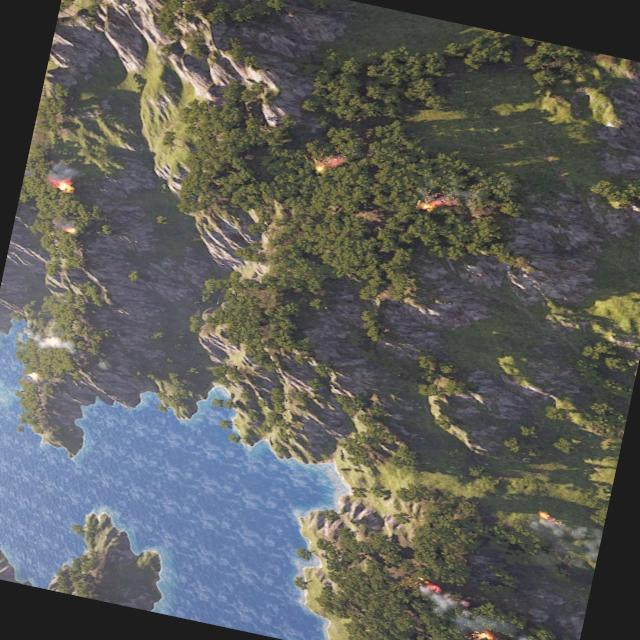fire: (419, 192, 450, 214), (314, 153, 343, 175), (470, 626, 498, 640), (535, 510, 560, 523), (418, 576, 440, 590), (56, 179, 74, 192), (28, 369, 40, 379), (66, 226, 80, 234)
smoke: (412, 586, 515, 634), (532, 514, 597, 546), (24, 328, 86, 360), (45, 162, 80, 188)
